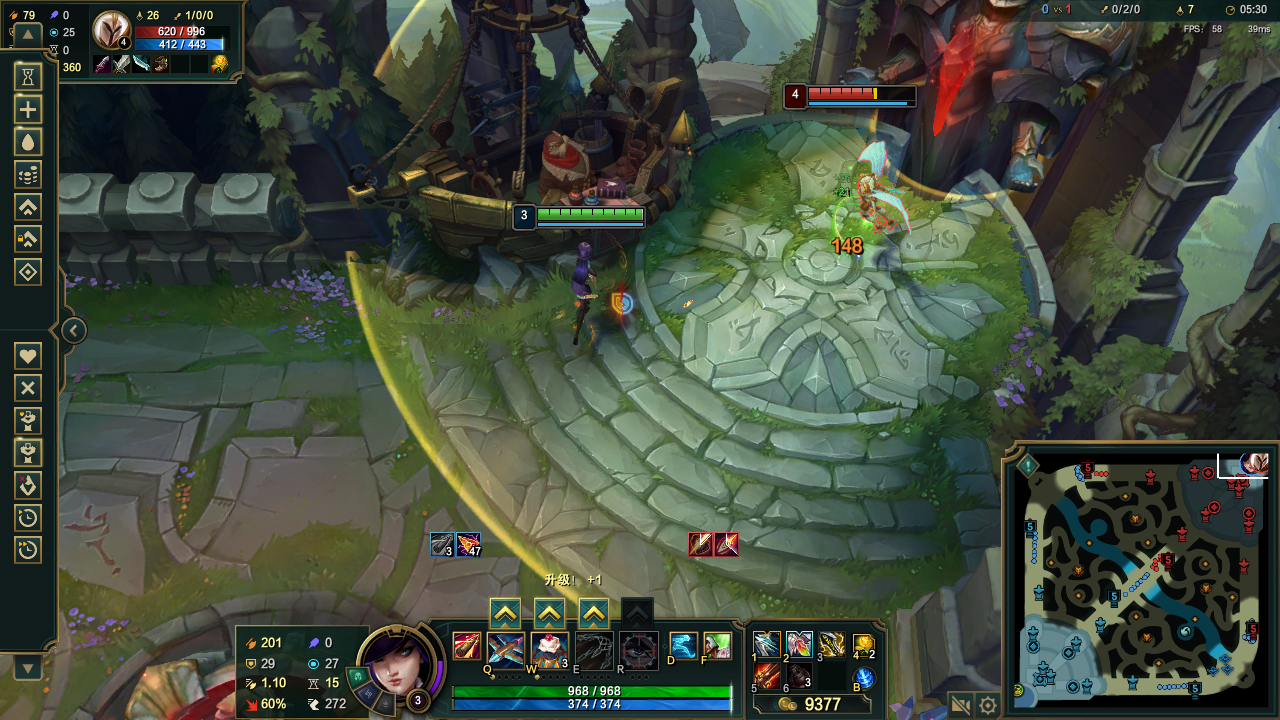DFYX: (803, 84, 916, 99)
